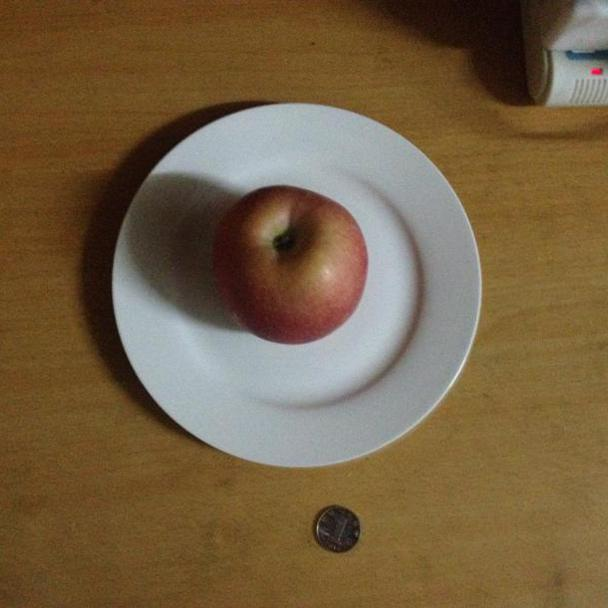apple: (212, 187, 370, 344)
